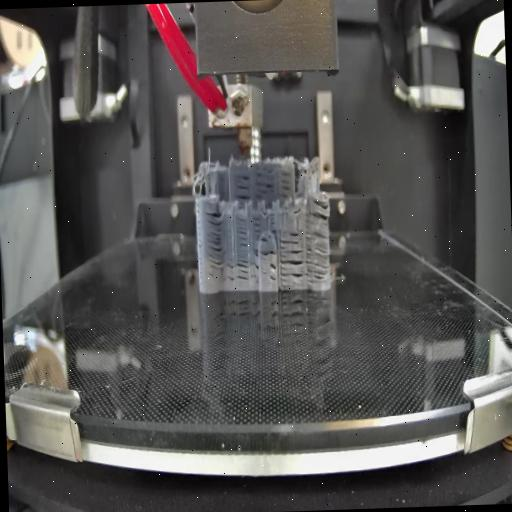cracks: (302, 196, 330, 283), (201, 206, 224, 272), (278, 229, 303, 284), (250, 248, 278, 284), (254, 168, 275, 200), (226, 253, 248, 282), (232, 172, 252, 200), (250, 213, 268, 243), (278, 170, 292, 200), (234, 218, 247, 246), (268, 210, 278, 232)
